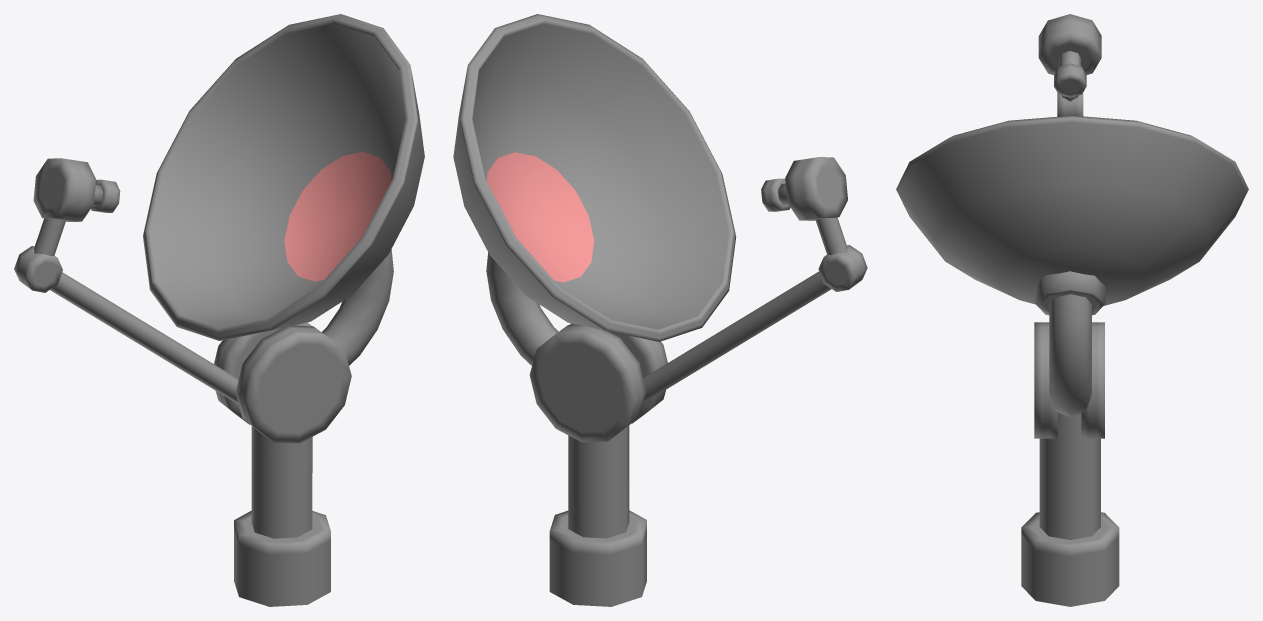
The model's file is Beach_SatDish_01.gltf.
3 views of the same model, side by side, from view 1: azimuth 30°, elevation 25°; view 2: azimuth 150°, elevation 25°; view 3: azimuth 270°, elevation 25° (orthographic). The views are drawn at different scales.
Visible parts, largest first — view 1: Beach_SatDish_01; view 2: Beach_SatDish_01; view 3: Beach_SatDish_01.
Boxes of the visible parts, x1,y1,x2,y2 form: Beach_SatDish_01: [14, 14, 424, 606]; Beach_SatDish_01: [453, 14, 867, 606]; Beach_SatDish_01: [896, 14, 1248, 606].
Size of the model in its own units: 0.4734 by 0.6361 by 0.3934.
